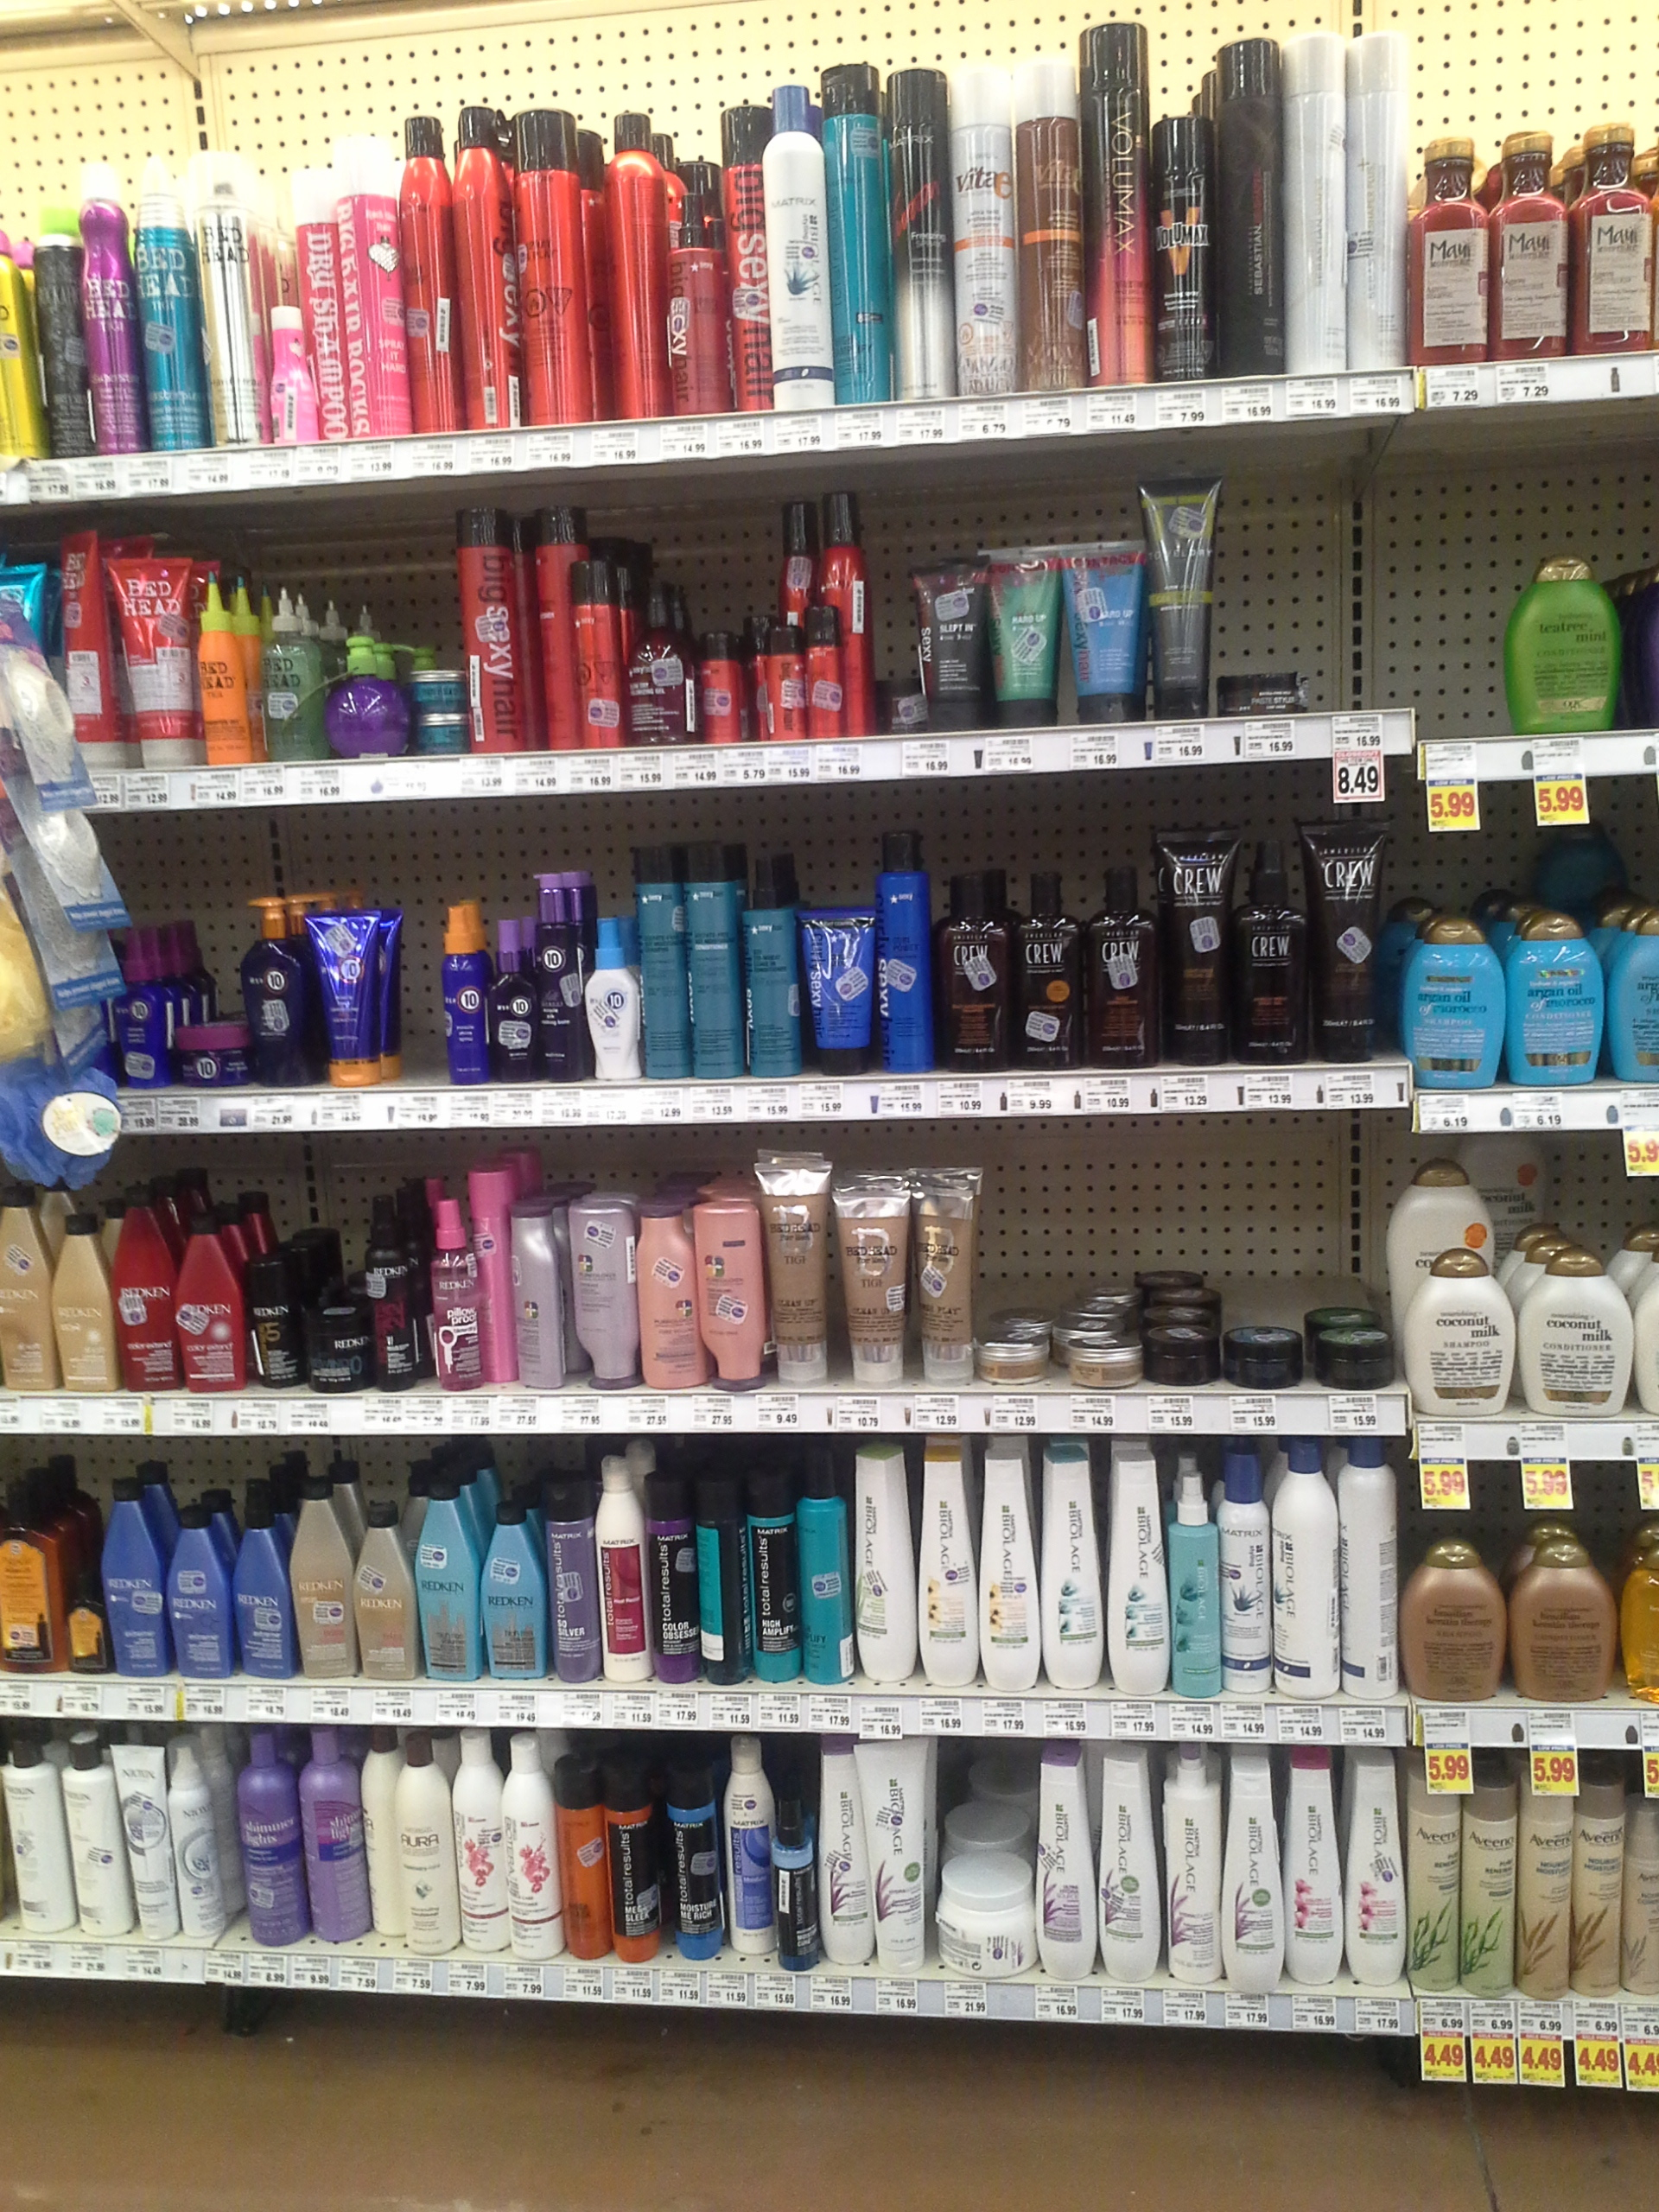Out-of-stock: (1307, 474, 1412, 711)
